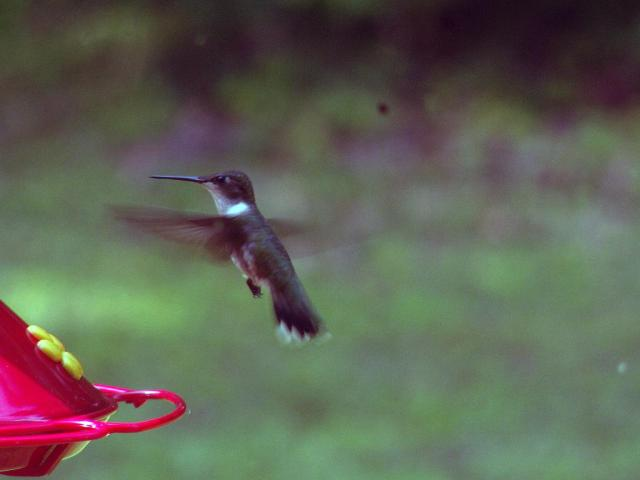Bird: (102, 167, 372, 346)
